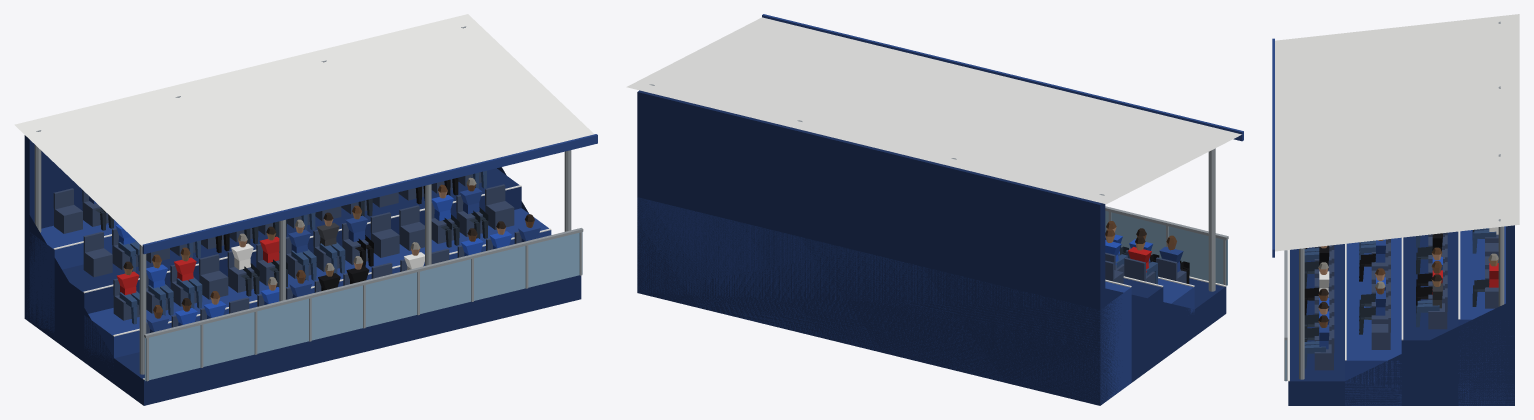
Rendered from vip_stand.glb.
The picture shows the model from 3 angles, left to right: view 1: azimuth 30°, elevation 25°; view 2: azimuth 150°, elevation 25°; view 3: azimuth 270°, elevation 25°; orthographic projection. The views are drawn at different scales.
Parts seen in each view (by area): view 1: Stand, Guests; view 2: Stand, Guests; view 3: Stand, Guests.
Part boxes in pixels (x1=…): Stand: x1=14, y1=14, x2=597, y2=405; Guests: x1=53, y1=170, x2=540, y2=333; Stand: x1=626, y1=14, x2=1243, y2=405; Guests: x1=1105, y1=221, x2=1189, y2=284; Stand: x1=1272, y1=14, x2=1519, y2=405; Guests: x1=1304, y1=227, x2=1498, y2=370.
Bounding box in the file's own units: 11 × 4.5 × 5.45.
